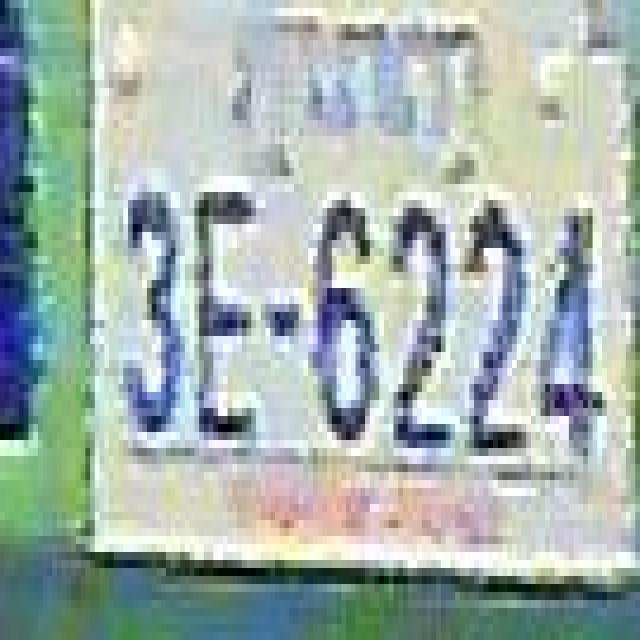Phnom_Penh: (242, 8, 481, 180)
